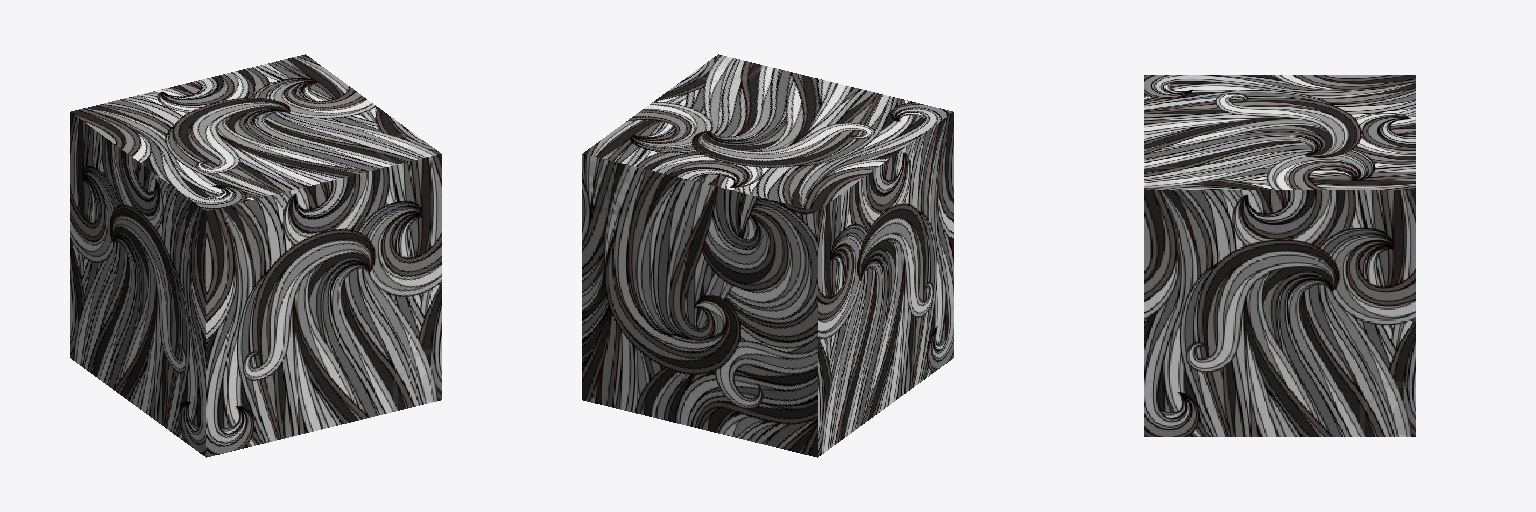
3 renders of one model, left to right at view 1: azimuth 30°, elevation 25°; view 2: azimuth 150°, elevation 25°; view 3: azimuth 270°, elevation 25°, orthographic.
Parts seen in each view (by area): view 1: Cube; view 2: Cube; view 3: Cube.
Part boxes in pixels (left/top/right/bottom): Cube: left=70, top=54, right=441, bottom=457; Cube: left=582, top=54, right=953, bottom=457; Cube: left=1144, top=75, right=1415, bottom=436.
Bounding box in the file's own units: 2 × 2 × 2.
Materials: 1 (1 with a texture image).